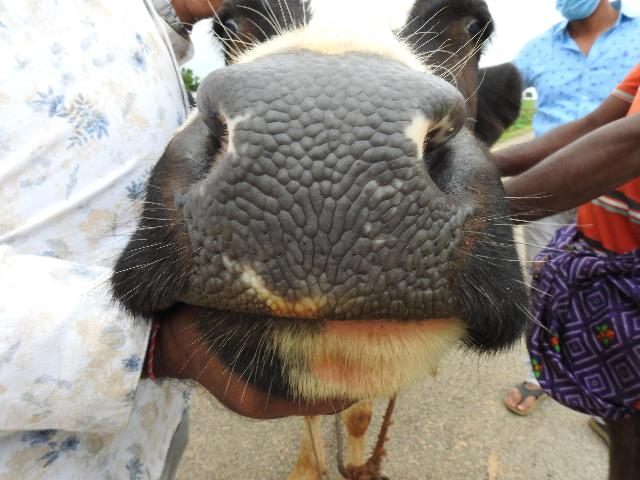Muzzle: (198, 66, 452, 316)
